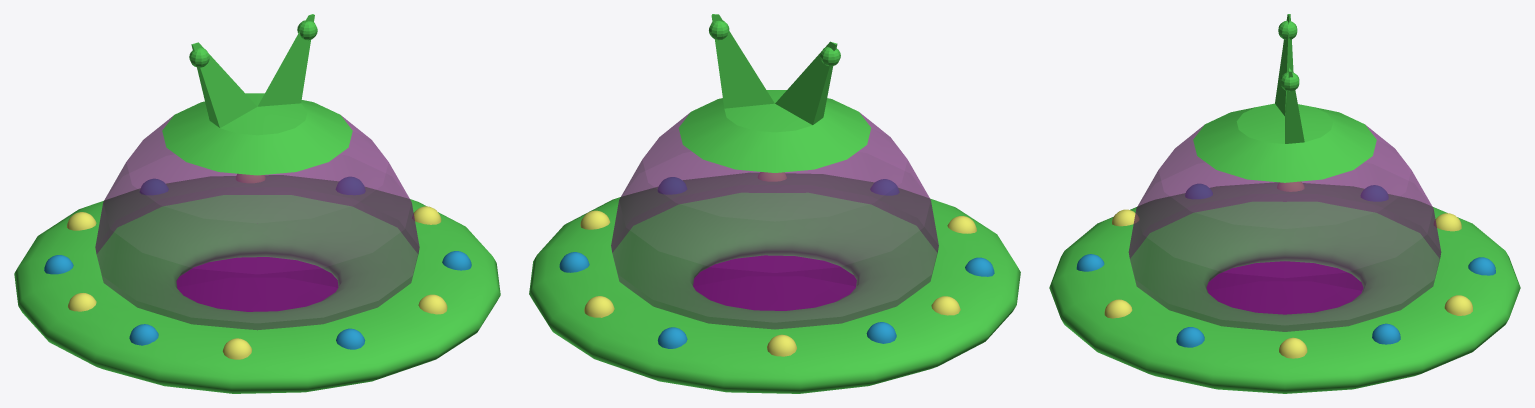
The model's file is UFO2.fbx.
The picture shows the model from 3 angles, left to right: view 1: azimuth 30°, elevation 25°; view 2: azimuth 150°, elevation 25°; view 3: azimuth 270°, elevation 25°; orthographic projection. The views are drawn at different scales.
Visible parts, largest first — view 1: pSphere84; view 2: pSphere84; view 3: pSphere84.
Part boxes in pixels (bbox=[...]): pSphere84: bbox=[14, 14, 500, 393]; pSphere84: bbox=[529, 14, 1020, 393]; pSphere84: bbox=[1049, 14, 1520, 393].
Bounding box in the file's own units: 3 × 2.32 × 3.
